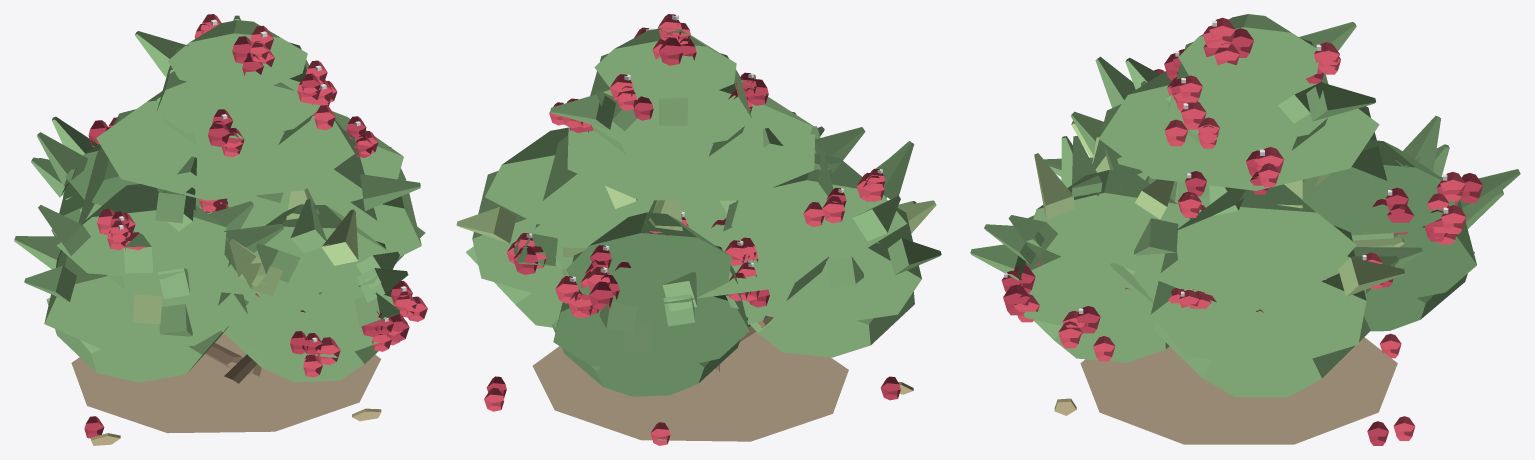
The model's file is berry_bush_1.glb.
3 renders of one model, left to right at view 1: azimuth 30°, elevation 25°; view 2: azimuth 150°, elevation 25°; view 3: azimuth 270°, elevation 25°, orthographic. The views are drawn at different scales.
Parts seen in each view (by area): view 1: Mound, Leaves#3, Leaves#5, Leaves#6, Leaves#11, Leaves#17, Leaves#18, Leaves#2, Leaves#12, Leaves#4, Leaves#9, Leaves#10 (+31 smaller); view 2: Mound, Leaves#3, Leaves#14, Leaves#15, Leaves#5, Leaves#6, Leaves#2, Leaves#9, Leaves#18, Leaves#17, Leaves#4, Leaves#8 (+20 smaller); view 3: Mound, Leaves#8, Leaves#9, Leaves#3, Leaves#12, Leaves#15, Leaves#11, Leaves#18, Leaves#17, Leaves#7, Leaves#14, Leaves#2 (+21 smaller).
Boxes of the visible parts, left/top/right/bottom form: Mound: left=71, top=333, right=380, bottom=433; Leaves#3: left=96, top=79, right=354, bottom=200; Leaves#5: left=44, top=223, right=247, bottom=349; Leaves#6: left=56, top=184, right=226, bottom=278; Leaves#11: left=218, top=241, right=395, bottom=357; Leaves#17: left=156, top=42, right=320, bottom=138; Leaves#18: left=168, top=20, right=307, bottom=90; Leaves#2: left=78, top=109, right=377, bottom=295; Leaves#12: left=253, top=204, right=390, bottom=294; Leaves#4: left=46, top=298, right=248, bottom=382; Leaves#9: left=248, top=111, right=403, bottom=207; Leaves#10: left=221, top=314, right=407, bottom=382; Mound: left=532, top=332, right=848, bottom=441; Leaves#3: left=567, top=76, right=815, bottom=200; Leaves#14: left=553, top=245, right=749, bottom=372; Leaves#15: left=566, top=212, right=731, bottom=306; Leaves#5: left=723, top=201, right=921, bottom=326; Leaves#6: left=731, top=154, right=906, bottom=250; Leaves#2: left=535, top=112, right=836, bottom=298; Leaves#9: left=485, top=127, right=653, bottom=225; Leaves#18: left=594, top=27, right=736, bottom=98; Leaves#17: left=590, top=53, right=752, bottom=148; Leaves#4: left=750, top=291, right=914, bottom=357; Leaves#8: left=472, top=170, right=564, bottom=301; Mound: left=1080, top=337, right=1397, bottom=444; Leaves#8: left=1150, top=225, right=1366, bottom=368; Leaves#9: left=1177, top=184, right=1356, bottom=290; Leaves#3: left=1099, top=71, right=1379, bottom=190; Leaves#12: left=1026, top=170, right=1190, bottom=264; Leaves#15: left=1302, top=140, right=1454, bottom=235; Leaves#11: left=1023, top=215, right=1191, bottom=335; Leaves#18: left=1178, top=14, right=1318, bottom=91; Leaves#17: left=1167, top=38, right=1328, bottom=144; Leaves#7: left=1153, top=316, right=1370, bottom=397; Leaves#14: left=1364, top=177, right=1476, bottom=305; Leaves#2: left=1092, top=104, right=1394, bottom=288.
Size of the model in its own units: 2.27 by 1.81 by 2.39.
